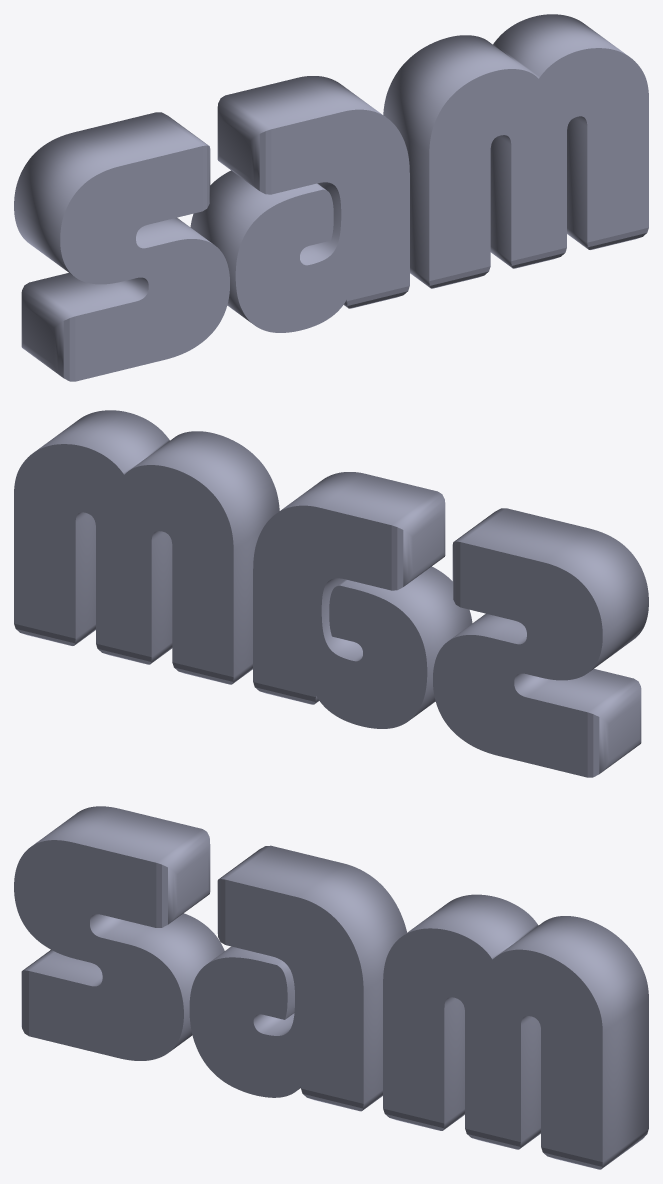
Rendered from sam.glb.
3 renders of one model, top to bottom at view 1: azimuth 30°, elevation 25°; view 2: azimuth 150°, elevation 25°; view 3: azimuth 330°, elevation 25°, orthographic.
Parts seen in each view (by area): view 1: Sam; view 2: Sam; view 3: Sam.
Boxes of the visible parts, left/top/right/bottom form: Sam: left=14, top=14, right=648, bottom=381; Sam: left=14, top=410, right=648, bottom=777; Sam: left=14, top=806, right=648, bottom=1169.
Bounding box in the file's own units: 1.77 × 0.6075 × 0.24.
